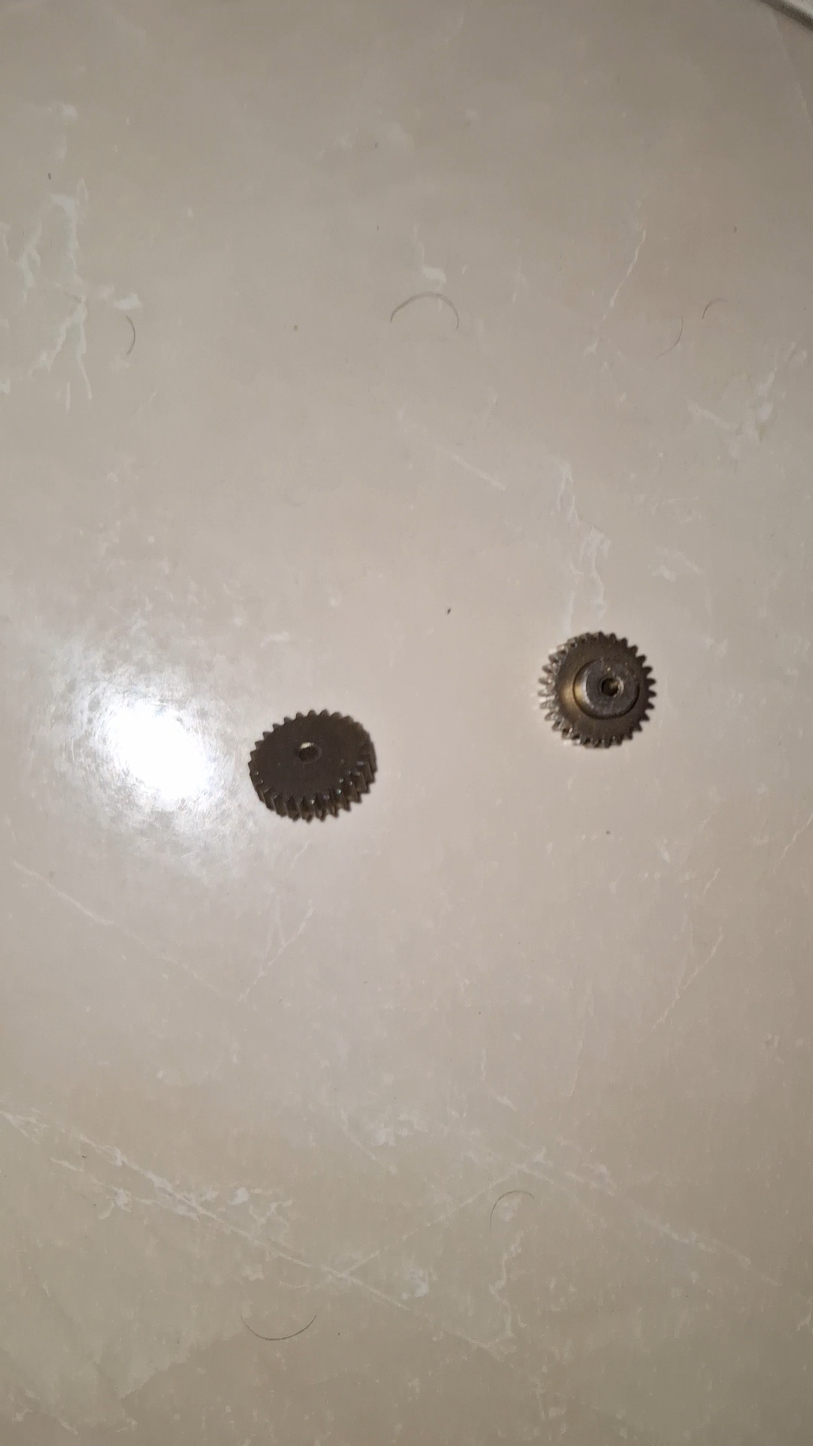spur gear: (249, 711, 376, 821), (540, 633, 655, 747)
